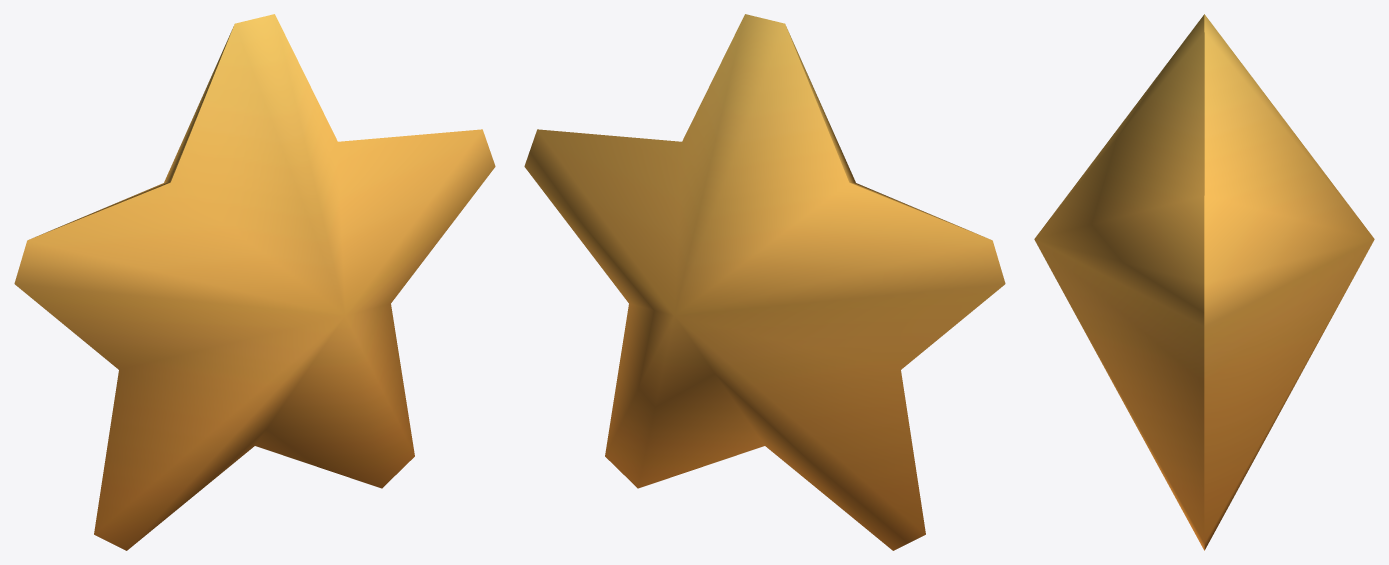
Rendered from stjarna.glb.
3 renders of one model, left to right at view 1: azimuth 30°, elevation 25°; view 2: azimuth 150°, elevation 25°; view 3: azimuth 270°, elevation 25°, orthographic. The views are drawn at different scales.
Parts seen in each view (by area): view 1: star; view 2: star; view 3: star.
Part boxes in pixels (x1,y1,x2,y2): star: [14, 14, 495, 550]; star: [524, 14, 1005, 550]; star: [1034, 14, 1374, 550].
Bounding box in the file's own units: 0.365 × 0.363 × 0.2386.
1 material, 1 textured.
